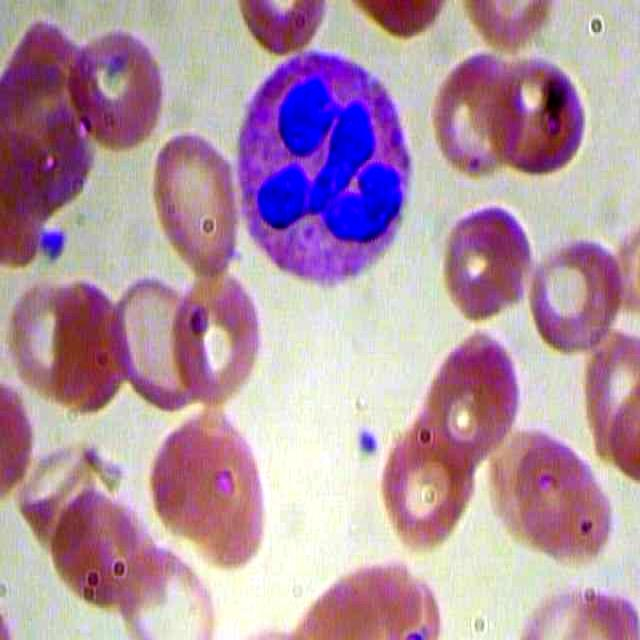Platelets: (37, 221, 72, 271), (351, 423, 382, 465)
RBC: (143, 127, 243, 284), (54, 480, 165, 621), (417, 328, 524, 472), (378, 402, 485, 546), (173, 259, 265, 405), (440, 192, 535, 328), (527, 214, 622, 350), (71, 15, 166, 150), (431, 43, 526, 178), (490, 43, 585, 178), (512, 436, 614, 559), (46, 276, 137, 412)
WBC: (221, 48, 415, 300)
